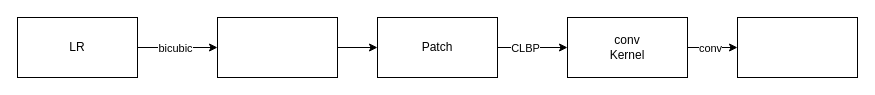
Some shapes in this 875 by 95 pixel diagram are drawn without their labels. Here are the shapes that lost their labels. From the top down, the centre of each, then its label:
At point (277, 47): "Pre-SR".
At point (797, 47): "SR".
